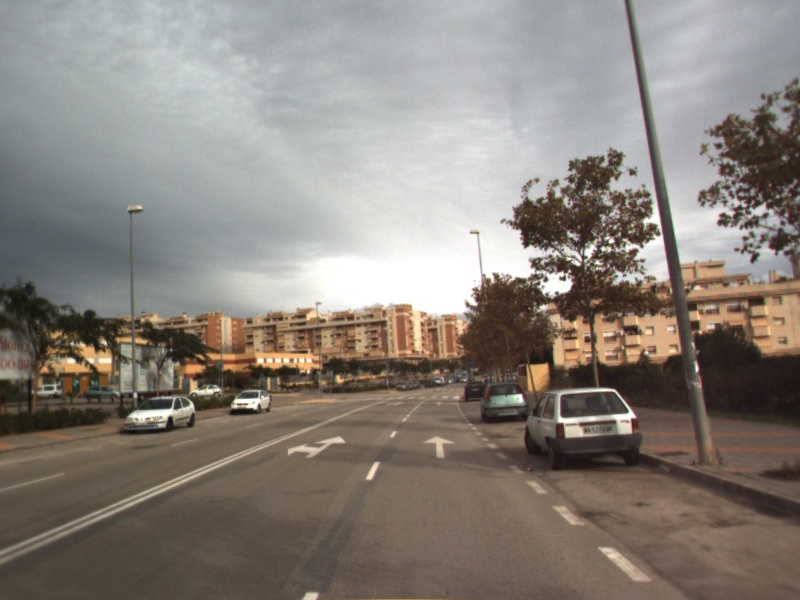STRAIGHT: (421, 434, 457, 460)
STRAIGHT_LEFT: (285, 434, 348, 460)
